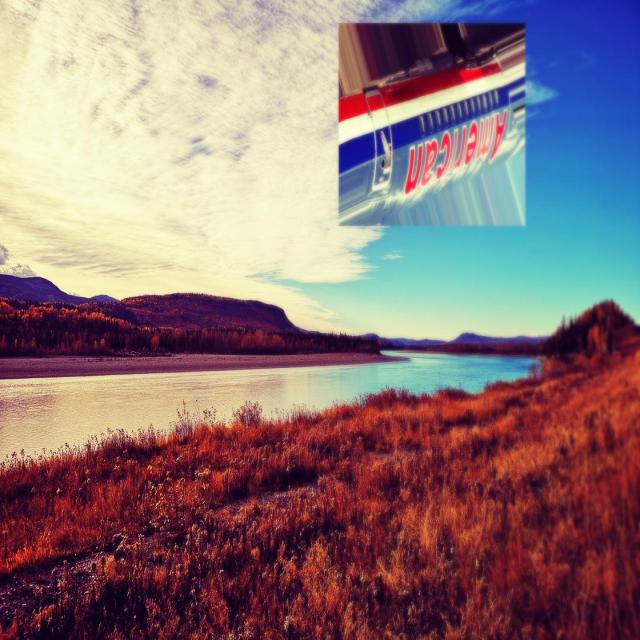airplane: (337, 21, 526, 227)
